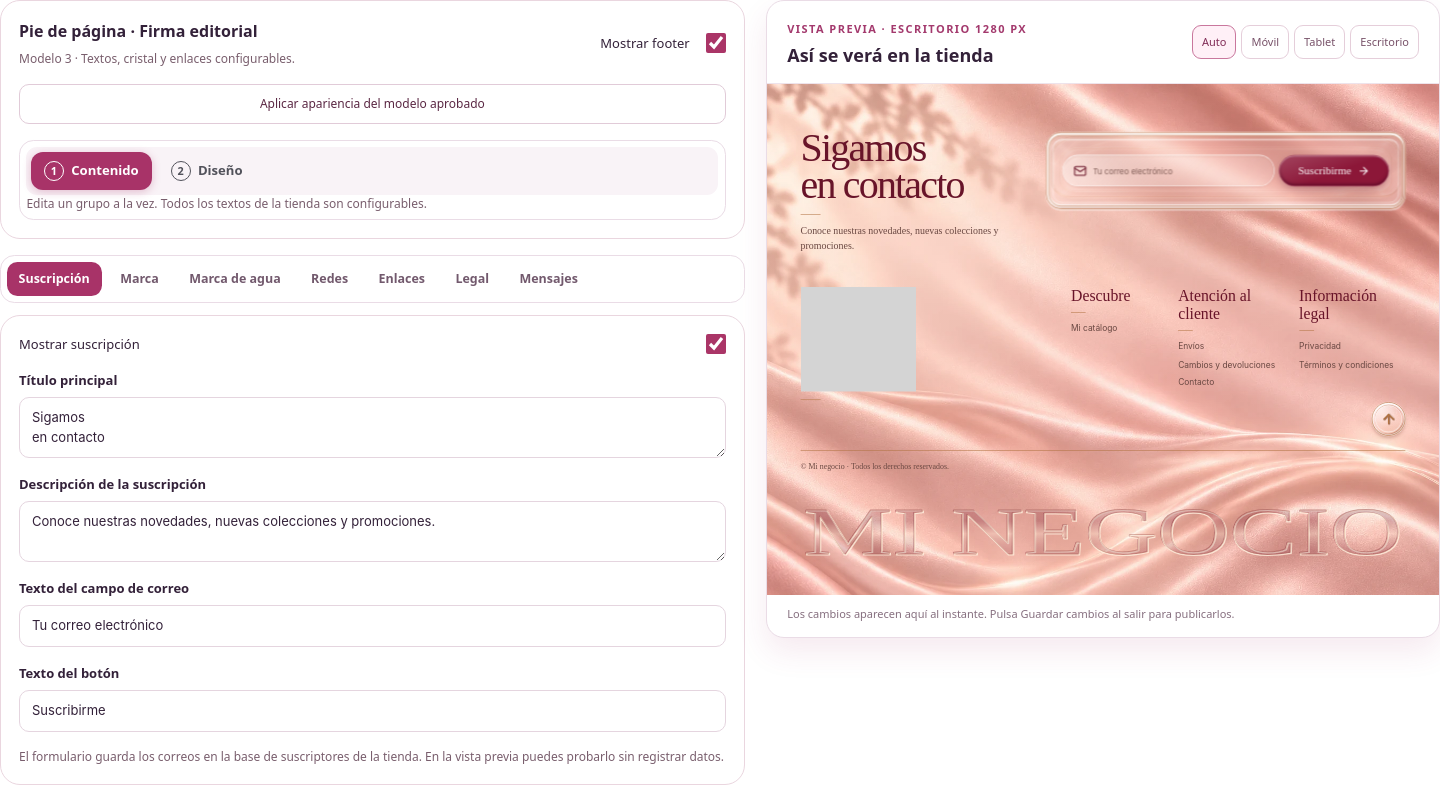
Test: footer Firma editorial › recupera la apariencia aprobada sin borrar contenido, enlaces ni imágenes guardadas
The width and height of the screenshot is (1440, 800).
Step 1. Click the button "Aplicar apariencia del modelo aprobado" → (372, 104), box [19,84,726,124]
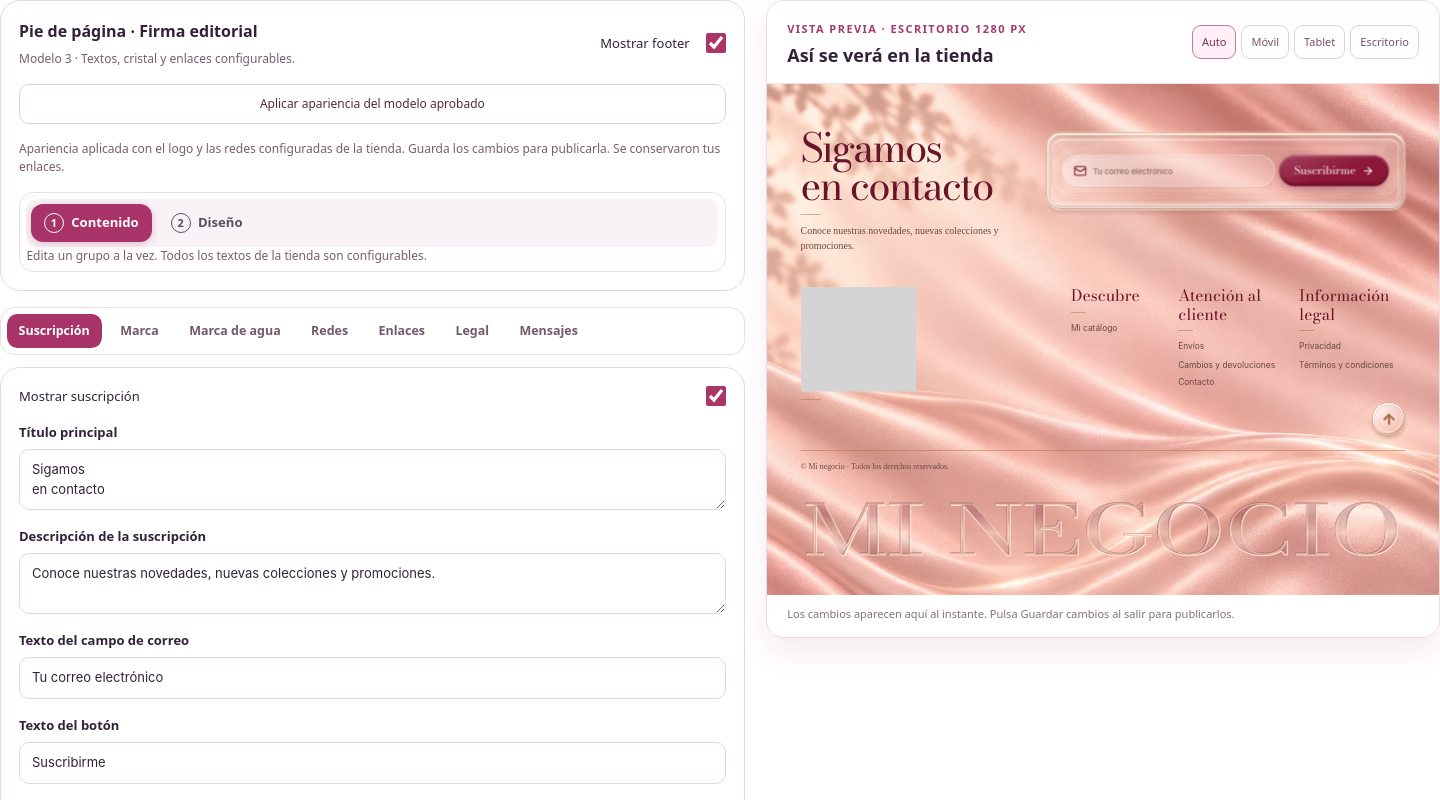
expect the text "Apariencia aplicada" shows "Guarda los cambios": met, box [19,140,720,175]
